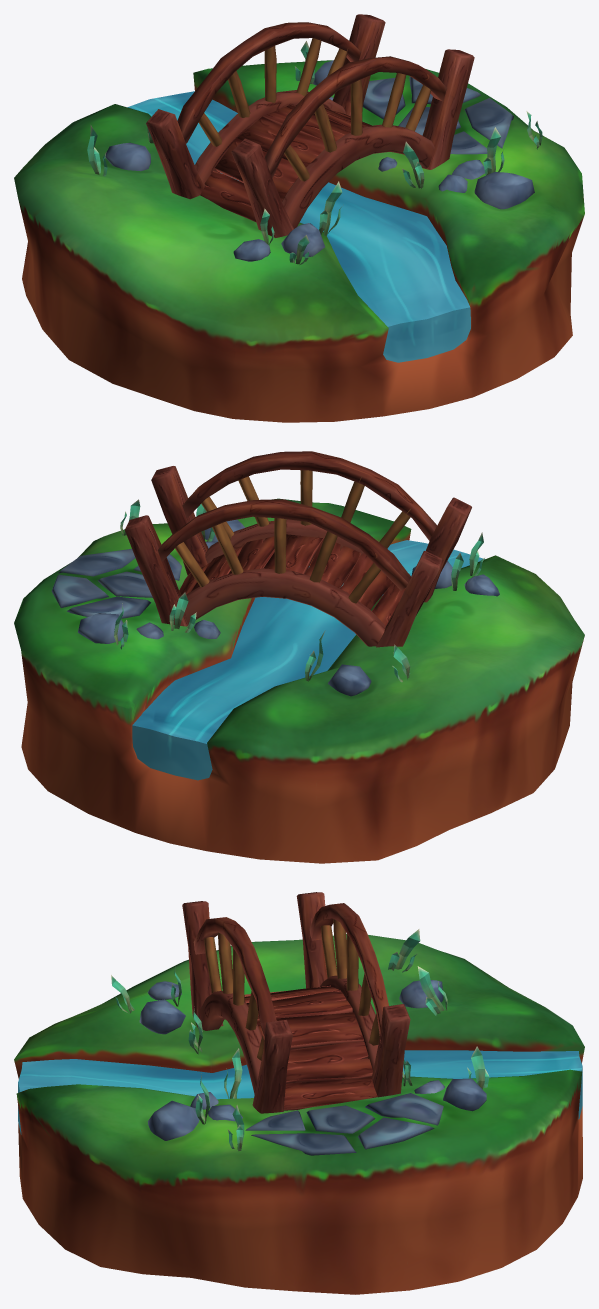
File: bridge.glb
3 renders of one model, top to bottom at view 1: azimuth 30°, elevation 25°; view 2: azimuth 150°, elevation 25°; view 3: azimuth 270°, elevation 25°, orthographic.
Visible parts, largest first — view 1: zeme_57, reka_58, Cube.001_1, Cube.007_6, Cube.006_7, Plane_64, Cube.003_3, Cube.005_5, Cube.004_4, Cube_24, Cube.002_2, Icosphere_59 (+13 smaller); view 2: zeme_57, reka_58, Cube_24, Cube.006_7, Plane_64, Cube.007_6, Cube.002_2, Cube.004_4, Cube.003_3, Cube.005_5, Cube.001_1, Cube.015_20 (+11 smaller); view 3: zeme_57, reka_58, Plane_64, Cube.014_19, Cube.006_7, Cube.007_6, Cube.003_3, Cube.002_2, Cube.001_1, Cube.013_18, Cube.017_22, Cube.005_5 (+14 smaller).
Part boxes in pixels (x1,y1,x2,y2): zeme_57: (14,60,584,422); reka_58: (127,91,470,362); Cube.001_1: (282,124,434,228); Cube.007_6: (177,22,361,143); Cube.006_7: (265,56,447,177); Plane_64: (363,76,513,154); Cube.003_3: (422,49,474,169); Cube.005_5: (231,138,293,237); Cube.004_4: (146,109,204,199); Cube_24: (195,90,345,186); Cube.002_2: (332,14,385,116); Icosphere_59: (474,172,534,209); zeme_57: (14,498,584,863); reka_58: (132,540,484,780); Cube_24: (184,568,385,646); Cube.006_7: (182,451,437,540); Plane_64: (51,548,181,618); Cube.007_6: (158,499,410,590); Cube.002_2: (125,515,187,626); Cube.004_4: (376,551,443,647); Cube.003_3: (151,466,208,575); Cube.005_5: (424,497,471,602); Cube.001_1: (205,519,411,588); Cube.015_20: (304,538,361,588); zeme_57: (14,934,584,1294); reka_58: (18,1050,582,1134); Plane_64: (245,1093,443,1155); Cube.014_19: (286,1042,372,1083); Cube.006_7: (193,917,276,1039); Cube.007_6: (309,903,388,1042); Cube.003_3: (252,1019,292,1113); Cube.002_2: (371,1004,410,1097); Cube.001_1: (200,991,261,1094); Cube.013_18: (257,1012,363,1050); Cube.017_22: (283,1077,377,1110); Cube.005_5: (182,901,223,1028).
Bounding box in the file's own units: 2.99 × 1.58 × 3.08.
1 material, 1 textured.
